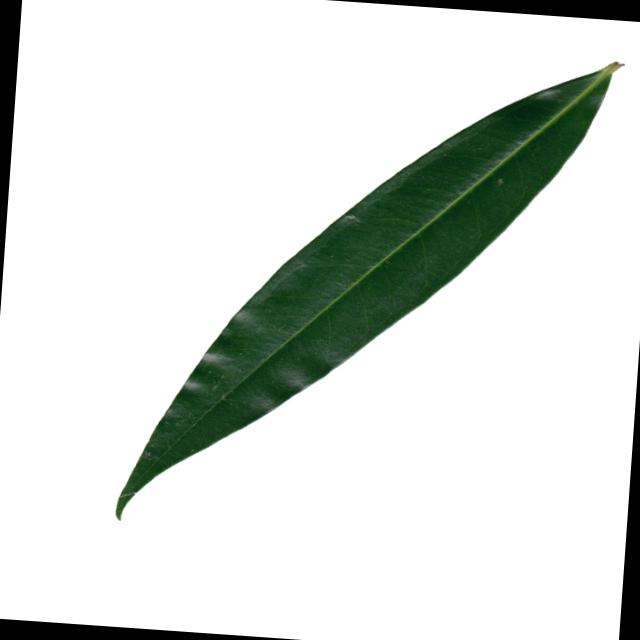Medicinal-Rose Apple: (117, 24, 620, 557)
